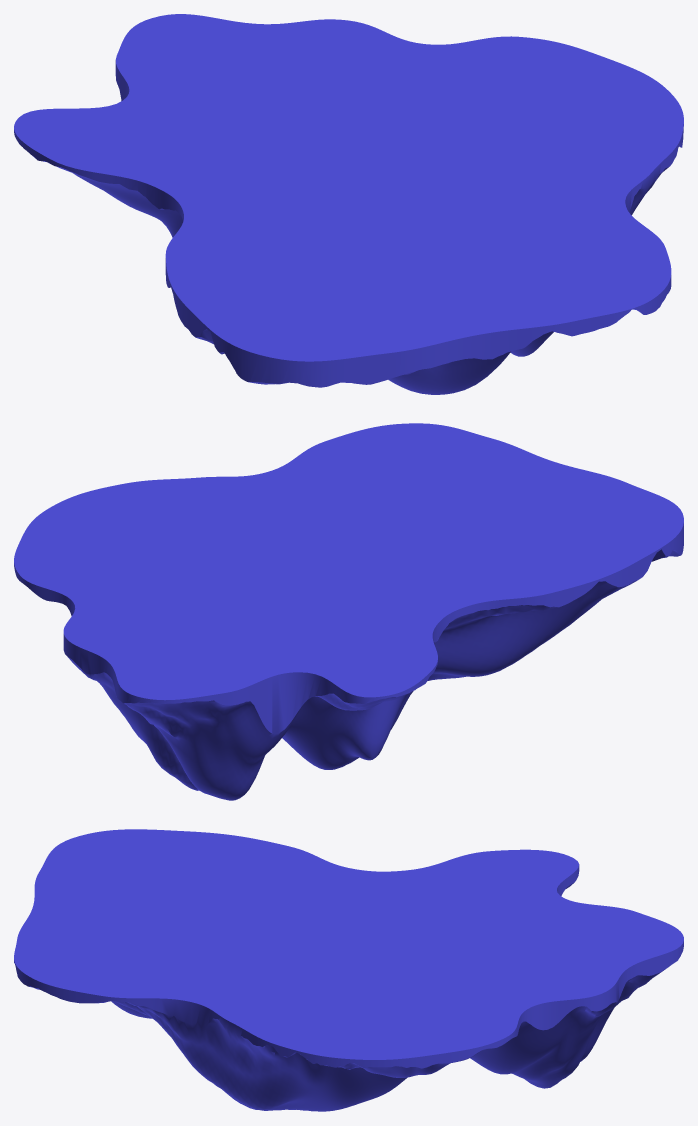
File: lake.fbx
3 renders of one model, top to bottom at view 1: azimuth 30°, elevation 25°; view 2: azimuth 150°, elevation 25°; view 3: azimuth 270°, elevation 25°, orthographic. The views are drawn at different scales.
Visible parts, largest first — view 1: Splat; view 2: Splat; view 3: Splat.
Part boxes in pixels (x1=…): Splat: x1=14, y1=14, x2=683, y2=394; Splat: x1=14, y1=423, x2=683, y2=800; Splat: x1=14, y1=829, x2=683, y2=1111.
Bounding box in the file's own units: 1271 × 379 × 1559.
